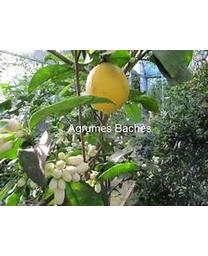lemon: (86, 63, 130, 113)
